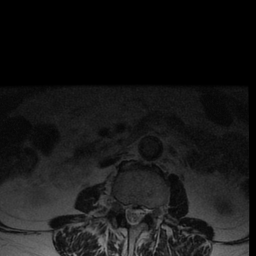CCS_normal: (131, 198, 137, 233)
LFS_stenosis: (145, 199, 153, 220)
LLS_normal: (137, 198, 145, 227)
RFS_stenosis: (116, 192, 124, 219)
RLS_normal: (123, 196, 131, 227)
